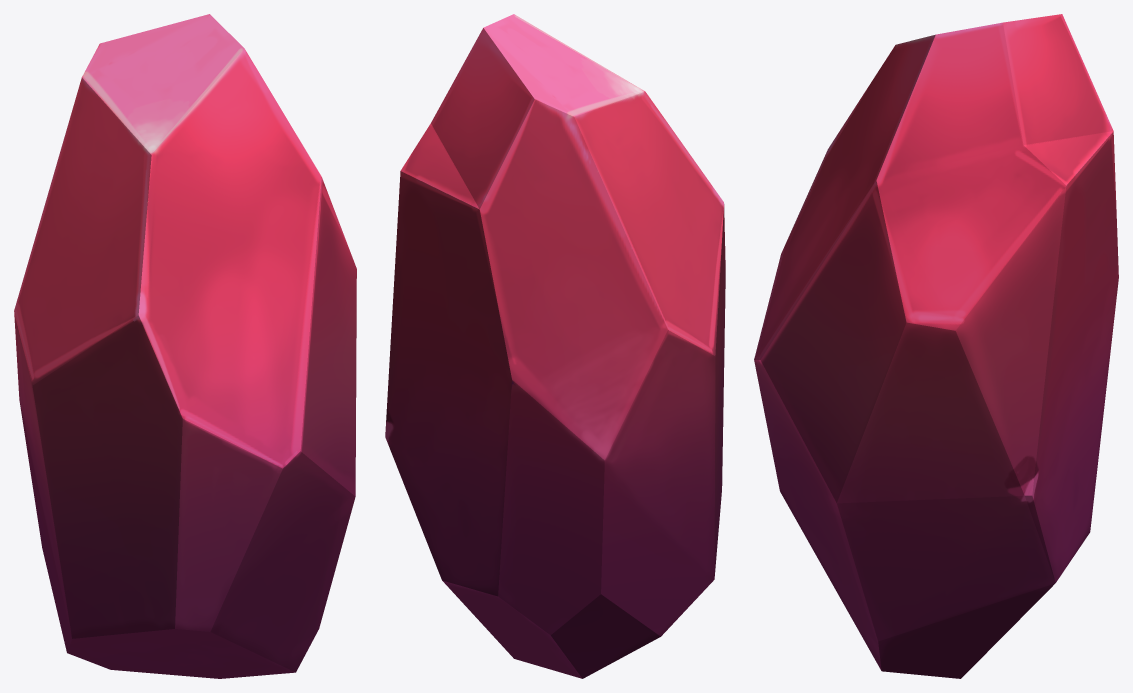
Rendered from Magic Crystal.fbx.
3 views of the same model, side by side, from view 1: azimuth 30°, elevation 25°; view 2: azimuth 150°, elevation 25°; view 3: azimuth 270°, elevation 25° (orthographic). The views are drawn at different scales.
Parts seen in each view (by area): view 1: Crystal_Cube.001; view 2: Crystal_Cube.001; view 3: Crystal_Cube.001.
Part boxes in pixels (<box>): Crystal_Cube.001: <box>14,14,356,678</box>; Crystal_Cube.001: <box>385,14,725,678</box>; Crystal_Cube.001: <box>754,14,1118,678</box>.
Size of the model in its own units: 161 by 322 by 161.
1 material, 1 textured.
